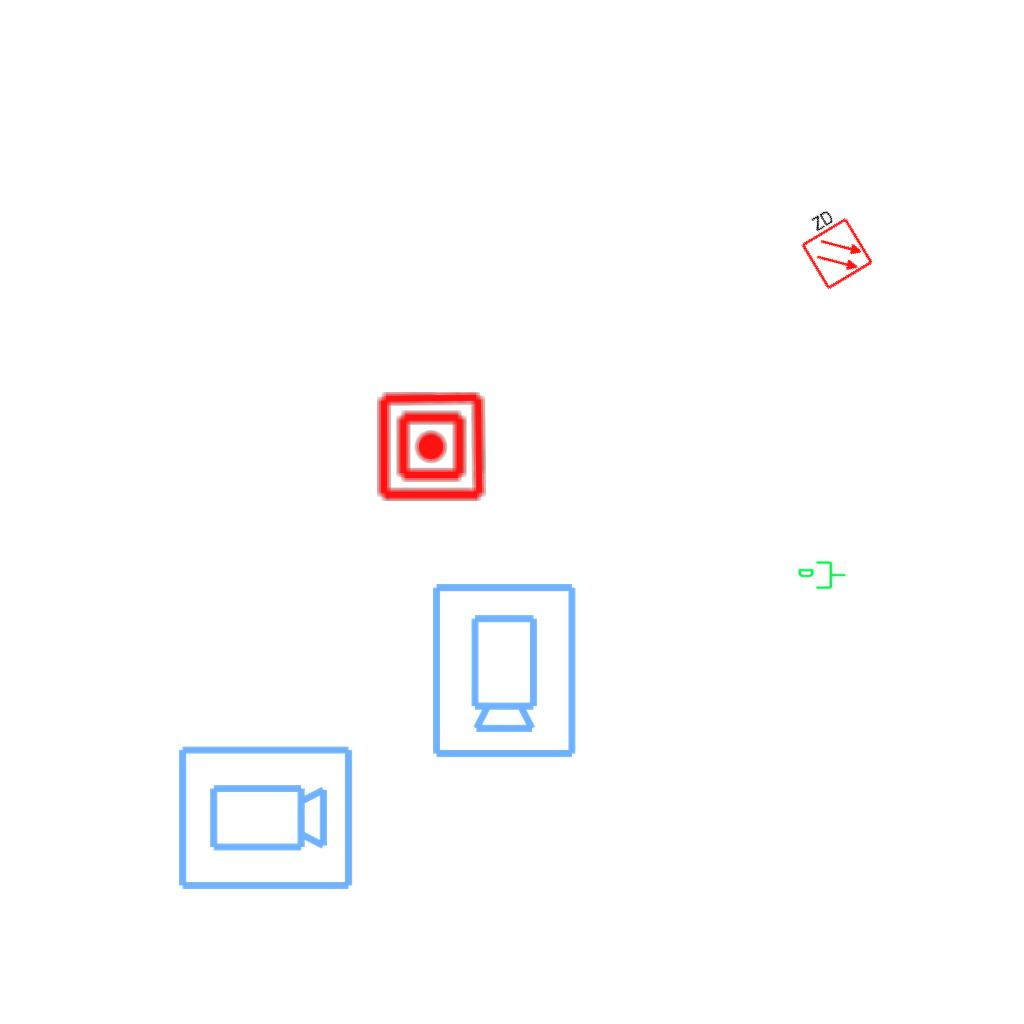Datenanschluss_einfach: (797, 559, 847, 593)
KFO_Kamera_mit_Festobjektiv: (426, 579, 580, 761), (174, 742, 356, 896)
NAM-Nichtautomatischer_Melder: (375, 390, 488, 503)
ZD_Melder_in_Zwischendecke_mit_Revisionsoeffnung_mind_40_x_40_cm: (788, 199, 875, 293)
